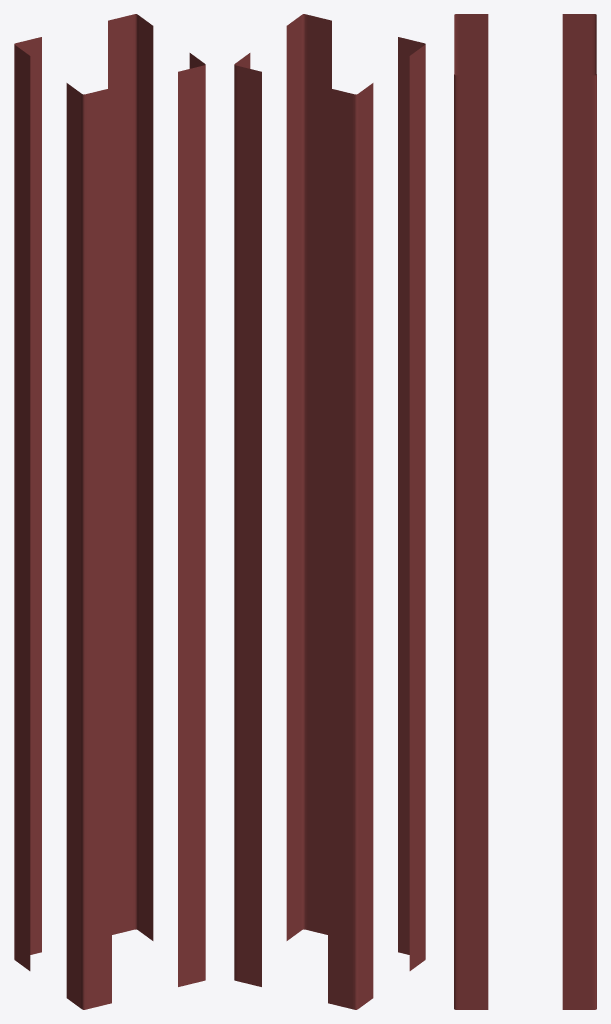
File: Decal_wallIn_B_column_small.FBX
3 renders of one model, left to right at view 1: azimuth 30°, elevation 25°; view 2: azimuth 150°, elevation 25°; view 3: azimuth 270°, elevation 25°, orthographic. The views are drawn at different scales.
Visible parts, largest first — view 1: Decal_wallIn_B_column_small; view 2: Decal_wallIn_B_column_small; view 3: Decal_wallIn_B_column_small.
Boxes of the visible parts, <box> form: Decal_wallIn_B_column_small: <box>14,14,205,1009</box>; Decal_wallIn_B_column_small: <box>234,14,425,1009</box>; Decal_wallIn_B_column_small: <box>454,14,596,1009</box>.
Bounding box in the file's own units: 35.55 × 253 × 34.95.
